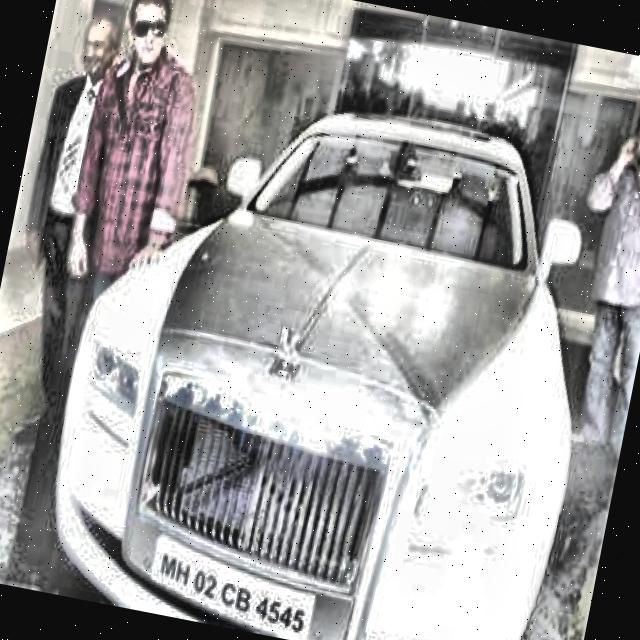license_plate: (142, 535, 317, 640)
